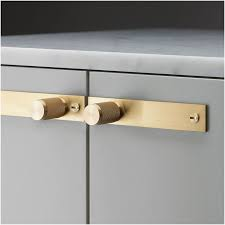cabinet door: (87, 82, 225, 225), (2, 68, 86, 222)
handle: (85, 97, 119, 134), (28, 93, 64, 124)
